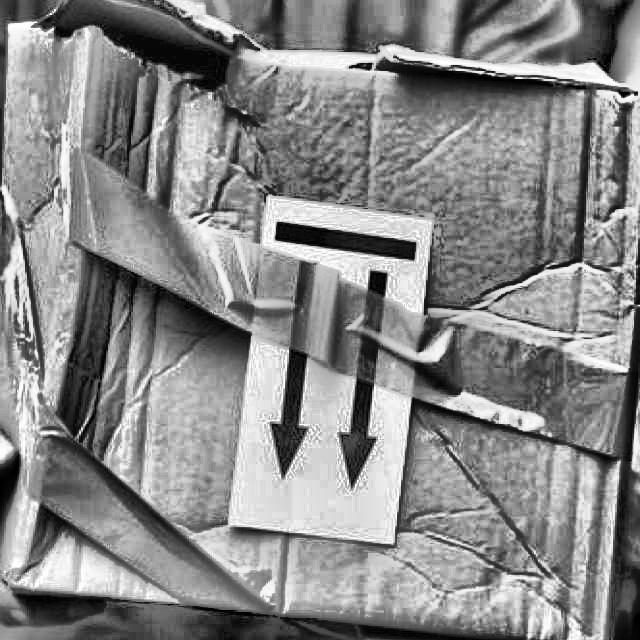box: (0, 0, 635, 639)
hole: (49, 8, 249, 88)
